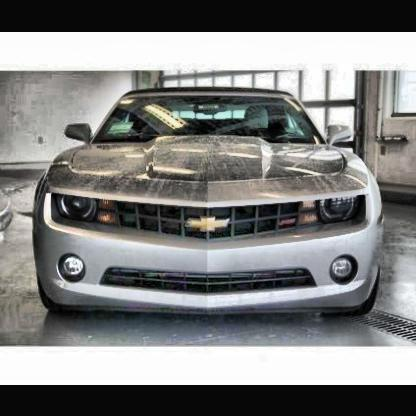Chevrolet Camaro Convertible 2012: (37, 88, 385, 320)
